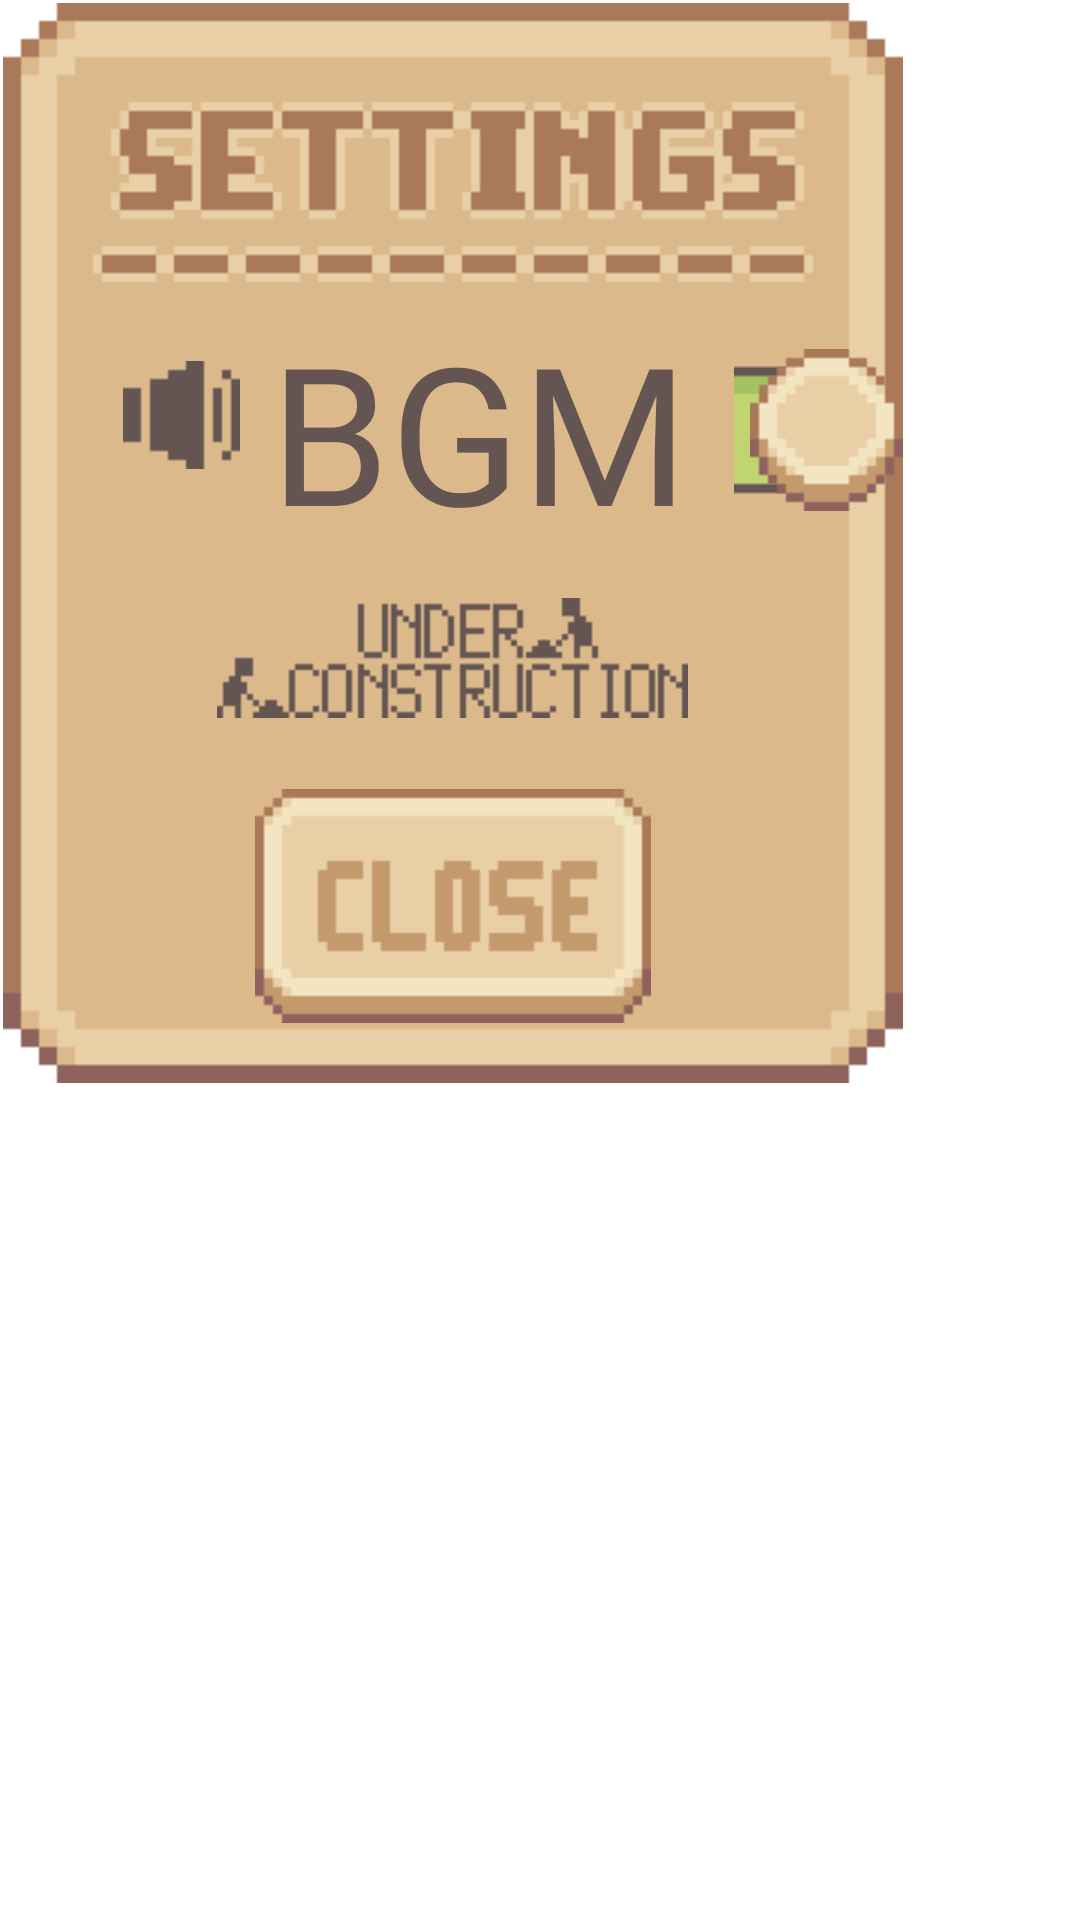

Point at icon controls on the screen. Image size 1080 × 1920, points as [x,y].
music: [181,415]
